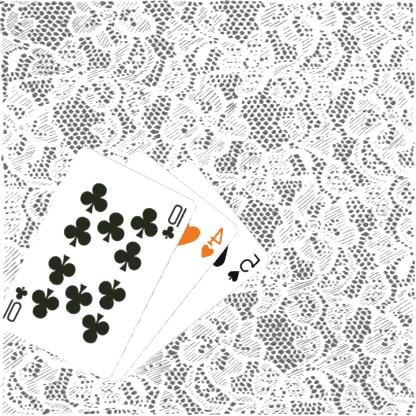10C: (161, 201, 191, 241), (2, 283, 31, 324)
4H: (200, 224, 228, 260)
5S: (227, 250, 264, 284)
